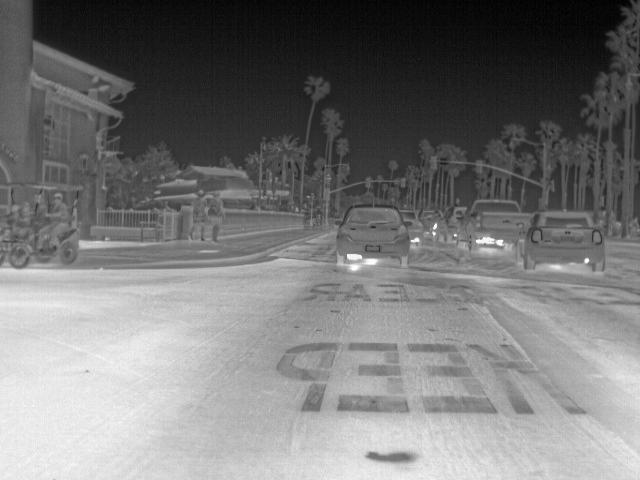car: (521, 207, 607, 274), (333, 204, 412, 266), (456, 198, 536, 250), (398, 211, 427, 244), (446, 206, 464, 237)
person: (29, 193, 71, 251), (188, 189, 211, 242), (207, 188, 223, 244)
